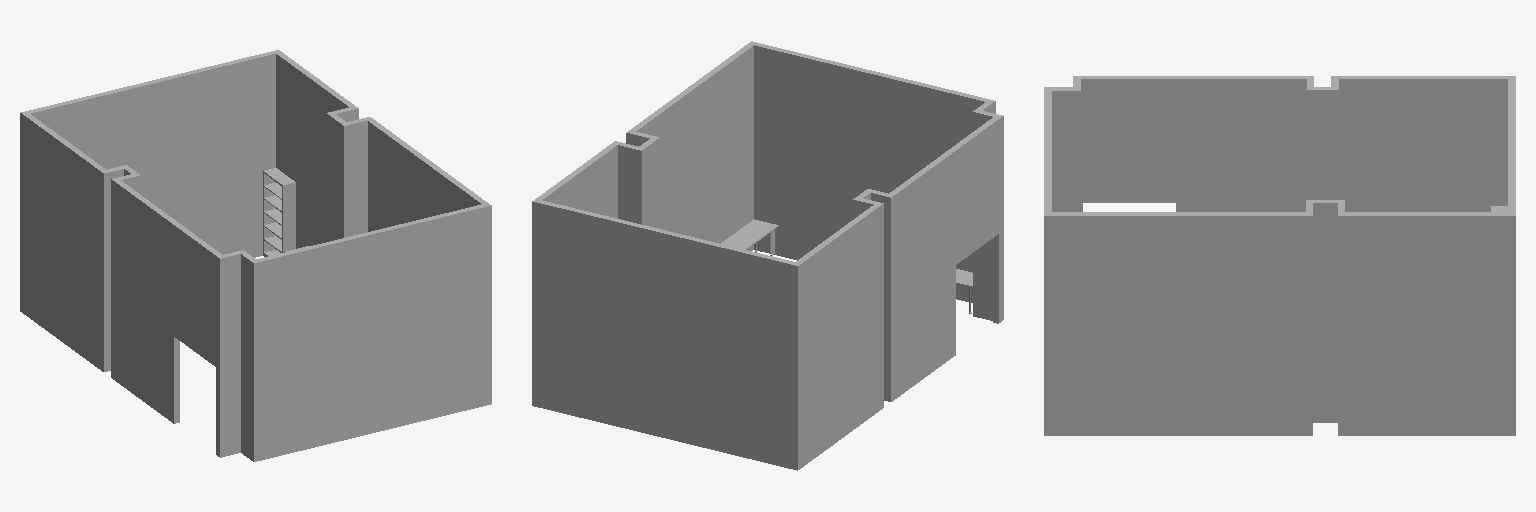
URDF robot description (kitchen_gazebo):
<?xml version="1.0"?>
<robot
  name="kitchen_gazebo">
  <link
    name="base_link">
    <inertial>
      <origin
        xyz="2.83479229641655 4.84645267903905 2.3939424589638"
        rpy="0 0 0" />
      <mass
        value="24756.9002576438" />
      <inertia
        ixx="345381.041736547"
        ixy="-7441.75636053468"
        ixz="-1930.9346888494"
        iyy="228196.721336676"
        iyz="-3380.0126470379"
        izz="476181.678322093" />
    </inertial>
    <visual>
      <origin
        xyz="0 0 0"
        rpy="0 0 0" />
      <geometry>
        <mesh
          filename="package://kitchen_gazebo/meshes/base_link.STL" />
      </geometry>
      <material
        name="">
        <color
          rgba="0.749019607843137 0.749019607843137 0.749019607843137 1" />
      </material>
    </visual>
    <collision>
      <origin
        xyz="0 0 0"
        rpy="0 0 0" />
      <geometry>
        <mesh
          filename="package://kitchen_gazebo/meshes/base_link.STL" />
      </geometry>
    </collision>
  </link>
  <link
    name="kitchen_counter">
    <inertial>
      <origin
        xyz="2.50931689041543 1.46940566017838 0.54287927837013"
        rpy="0 0 0" />
      <mass
        value="167.482669275965" />
      <inertia
        ixx="54.2393970761068"
        ixy="0.099342414027901"
        ixz="-0.287034385289535"
        iyy="15.797549842197"
        iyz="0.582832371257107"
        izz="51.4877219057791" />
    </inertial>
    <visual>
      <origin
        xyz="0 0 0"
        rpy="0 0 0" />
      <geometry>
        <mesh
          filename="package://kitchen_gazebo/meshes/kitchen_counter.STL" />
      </geometry>
      <material
        name="">
        <color
          rgba="0.792156862745098 0.819607843137255 0.933333333333333 1" />
      </material>
    </visual>
    <collision>
      <origin
        xyz="0 0 0"
        rpy="0 0 0" />
      <geometry>
        <mesh
          filename="package://kitchen_gazebo/meshes/kitchen_counter.STL" />
      </geometry>
    </collision>
  </link>
  <joint
    name="kitchen_counter"
    type="fixed">
    <origin
      xyz="0 0 0"
      rpy="0 0 0" />
    <parent
      link="base_link" />
    <child
      link="kitchen_counter" />
    <axis
      xyz="0 0 0" />
  </joint>
  <link
    name="drawer_left">
    <inertial>
      <origin
        xyz="2.57310110642472 1.45420000000002 0.741347982329302"
        rpy="0 0 0" />
      <mass
        value="9.47751493301134" />
      <inertia
        ixx="0.315267674681906"
        ixy="-8.67693226187894E-16"
        ixz="0.000191715380340829"
        iyy="0.410595971523303"
        iyz="9.0075248947048E-16"
        izz="0.656396883249416" />
    </inertial>
    <visual>
      <origin
        xyz="0 0 0"
        rpy="0 0 0" />
      <geometry>
        <mesh
          filename="package://kitchen_gazebo/meshes/drawer_left.STL" />
      </geometry>
      <material
        name="">
        <color
          rgba="0.792156862745098 0.819607843137255 0.933333333333333 1" />
      </material>
    </visual>
    <collision>
      <origin
        xyz="0 0 0"
        rpy="0 0 0" />
      <geometry>
        <mesh
          filename="package://kitchen_gazebo/meshes/drawer_left.STL" />
      </geometry>
    </collision>
  </link>
  <joint
    name="drawer_left"
    type="prismatic">
    <origin
      xyz="0 0 0"
      rpy="0 0 0" />
    <parent
      link="kitchen_counter" />
    <child
      link="drawer_left" />
    <limit effort="1000.0" lower="0" upper="0.55" velocity="0.275" />
    <axis
      xyz="1 0 0" />
  </joint>
  <link
    name="drawer_right">
    <inertial>
      <origin
        xyz="2.57310110642474 1.9542 0.741347982329303"
        rpy="0 0 0" />
      <mass
        value="9.4775149330115" />
      <inertia
        ixx="0.315267674681916"
        ixy="-7.83094580319514E-16"
        ixz="0.000191715380340947"
        iyy="0.410595971523309"
        iyz="-6.57404880534236E-16"
        izz="0.65639688324943" />
    </inertial>
    <visual>
      <origin
        xyz="0 0 0"
        rpy="0 0 0" />
      <geometry>
        <mesh
          filename="package://kitchen_gazebo/meshes/drawer_right.STL" />
      </geometry>
      <material
        name="">
        <color
          rgba="0.792156862745098 0.819607843137255 0.933333333333333 1" />
      </material>
    </visual>
    <collision>
      <origin
        xyz="0 0 0"
        rpy="0 0 0" />
      <geometry>
        <mesh
          filename="package://kitchen_gazebo/meshes/drawer_right.STL" />
      </geometry>
    </collision>
  </link>
  <joint
    name="drawer_right"
    type="prismatic">
    <origin
      xyz="0 0 0"
      rpy="0 0 0" />
    <parent
      link="kitchen_counter" />
    <child
      link="drawer_right" />
    <limit effort="1000.0" lower="0" upper="0.55" velocity="0.275" />
    <axis
      xyz="1 0 0" />
  </joint>
  <link
    name="water_pipe">
    <inertial>
      <origin
        xyz="2.39841100330439 0.78772876028331 0.971666803670555"
        rpy="0 0 0" />
      <mass
        value="0.278769423544699" />
      <inertia
        ixx="0.00254972636821292"
        ixy="0.00110850271087319"
        ixz="0.000513470366159056"
        iyy="0.00126944006753512"
        iyz="0.000889276547537839"
        izz="0.00261412476087191" />
    </inertial>
    <visual>
      <origin
        xyz="0 0 0"
        rpy="0 0 0" />
      <geometry>
        <mesh
          filename="package://kitchen_gazebo/meshes/water_pipe.STL" />
      </geometry>
      <material
        name="">
        <color
          rgba="0.792156862745098 0.819607843137255 0.933333333333333 1" />
      </material>
    </visual>
    <collision>
      <origin
        xyz="0 0 0"
        rpy="0 0 0" />
      <geometry>
        <mesh
          filename="package://kitchen_gazebo/meshes/water_pipe.STL" />
      </geometry>
    </collision>
  </link>
  <joint
    name="water_pipe"
    type="fixed">
    <origin
      xyz="0 0 0"
      rpy="0 0 0" />
    <parent
      link="kitchen_counter" />
    <child
      link="water_pipe" />
    <axis
      xyz="0 0 0" />
  </joint>
  <link
    name="counter_sink">
    <inertial>
      <origin
        xyz="2.5675 0.964200000000004 0.814818333044056"
        rpy="0 0 0" />
      <mass
        value="2.96176611388953" />
      <inertia
        ixx="0.0630960188366444"
        ixy="1.25500557974391E-17"
        ixz="-3.10998855354148E-17"
        iyy="0.0500589614821276"
        iyz="-3.06630122707278E-18"
        izz="0.101018683191766" />
    </inertial>
    <visual>
      <origin
        xyz="0 0 0"
        rpy="0 0 0" />
      <geometry>
        <mesh
          filename="package://kitchen_gazebo/meshes/counter_sink.STL" />
      </geometry>
      <material
        name="">
        <color
          rgba="0.792156862745098 0.819607843137255 0.933333333333333 1" />
      </material>
    </visual>
    <collision>
      <origin
        xyz="0 0 0"
        rpy="0 0 0" />
      <geometry>
        <mesh
          filename="package://kitchen_gazebo/meshes/counter_sink.STL" />
      </geometry>
    </collision>
  </link>
  <joint
    name="counter_sink"
    type="fixed">
    <origin
      xyz="0 0 0"
      rpy="0 0 0" />
    <parent
      link="kitchen_counter" />
    <child
      link="counter_sink" />
    <axis
      xyz="0 0 0" />
  </joint>
</robot>

--- What the picture shows (computed from the rendered views, not written in the file) ---
The picture shows the robot from 3 angles, left to right: view 1: azimuth 30°, elevation 25°; view 2: azimuth 150°, elevation 25°; view 3: azimuth 270°, elevation 25°; orthographic projection.
Robot: kitchen_gazebo — 6 links, 5 joints (2 prismatic, 3 fixed); root link base_link; default pose: every joint at zero.
Visible links, largest first — view 1: base_link; view 2: base_link; view 3: base_link.
Link boxes in pixels (x1,y1,x2,y2): base_link: (20,50,491,461); base_link: (532,41,1003,470); base_link: (1044,76,1515,435).
Size in the robot's own frame: 6.55 by 9.36 by 4.83 metres.
6 mesh visuals loaded from 6 distinct referenced files (6 binary STL).